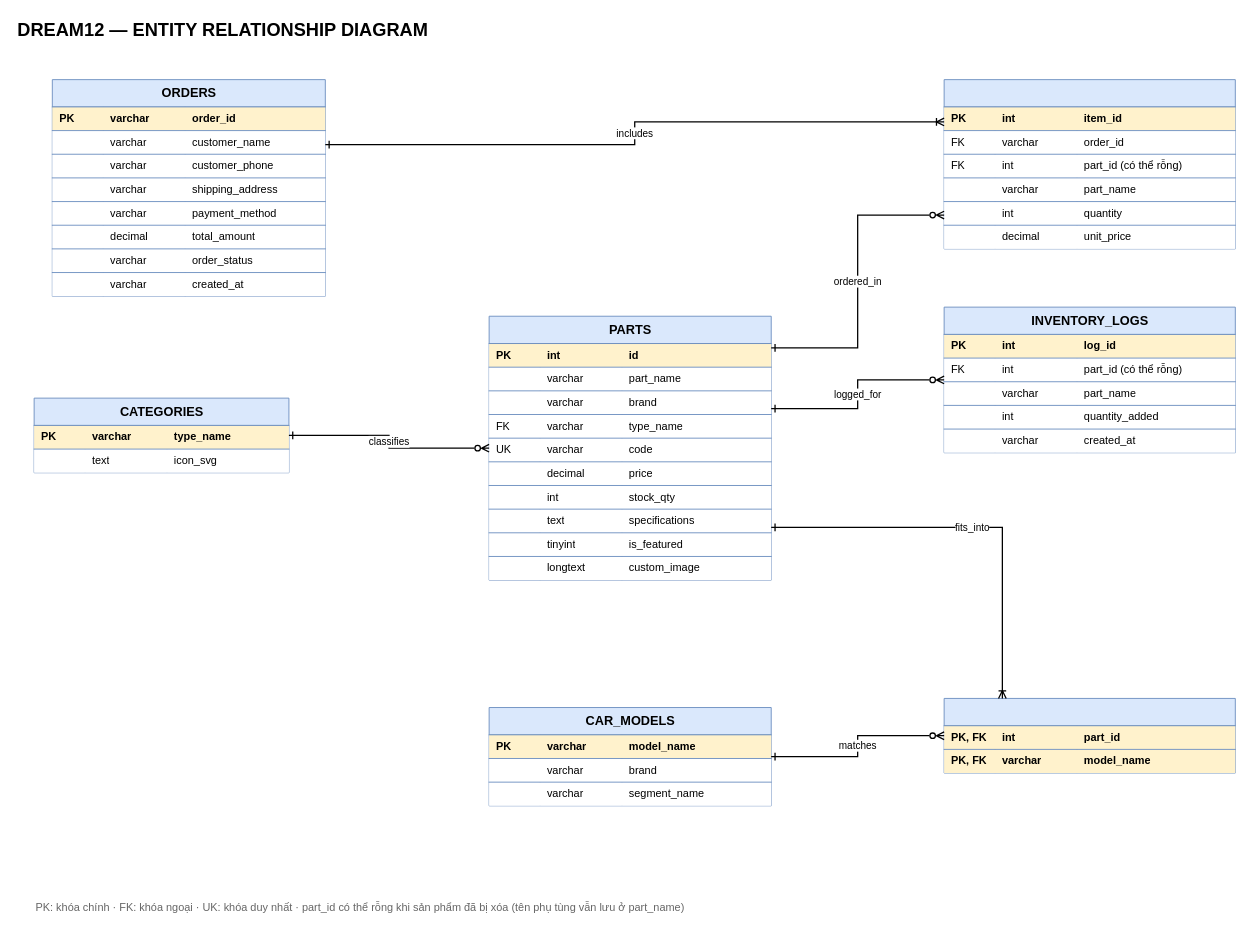
This 1251x941 diagram has some shape labels left out. Here are the shapes that lost their labels. From the top down, the box of each, then its label:
(943, 79, 1235, 249): ORDER_ITEMS
(943, 698, 1235, 773): PART_COMPATIBLE_MODELS
